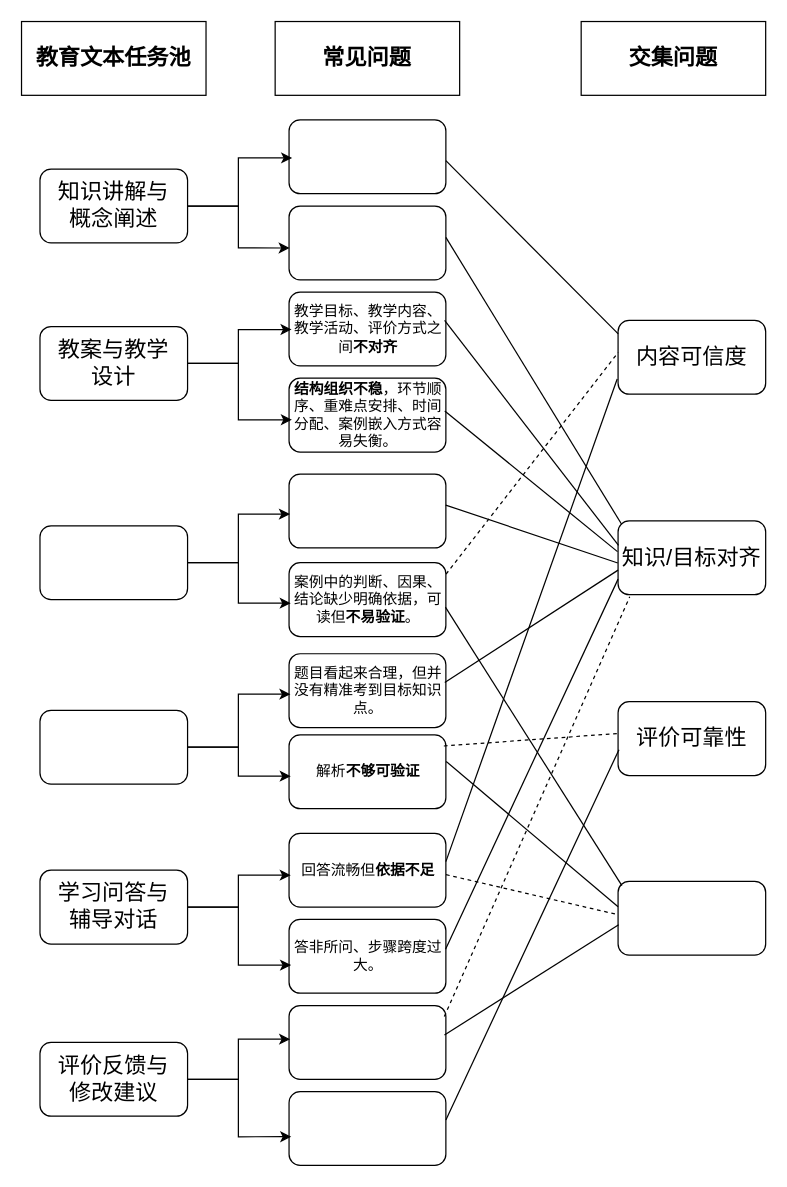
This 787x1187 diagram has some shape labels left out. The shapes that lost their labels are listed below. From the top down, each one's centre as x and y in pixels, then its label:
At (367,156): "表述看起来通顺，但 知识点有偏移、混淆或前提遗漏 。".
At (367,242): "讲解内容和教学目标 不完全一致".
At (367,510): "案例表面完整，但与知识点、教学意图或课程情境 不贴合 。".
At (113,562): "情境化案例与示例生成".
At (113,746): "试题、作业与解析生成".
At (691,917): "证据归因".
At (367,1041): "反馈语句泛、依据弱、针对性不够 ， 缺少证据 。".
At (367,1127): "评价 标准不稳定".
